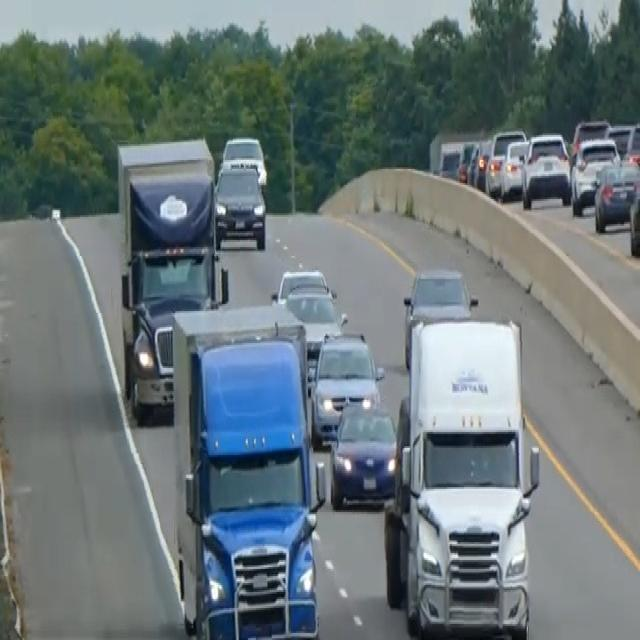car: (309, 327, 384, 446), (328, 393, 398, 508), (401, 263, 477, 368), (275, 281, 347, 382), (213, 160, 267, 251), (570, 135, 620, 215), (520, 130, 571, 208), (593, 156, 639, 233), (484, 126, 526, 199), (220, 134, 267, 188), (272, 265, 329, 302), (438, 137, 476, 183), (571, 116, 610, 151), (467, 137, 492, 190), (628, 170, 639, 258), (624, 119, 639, 174)
lorry: (170, 302, 326, 638), (382, 311, 541, 638)
